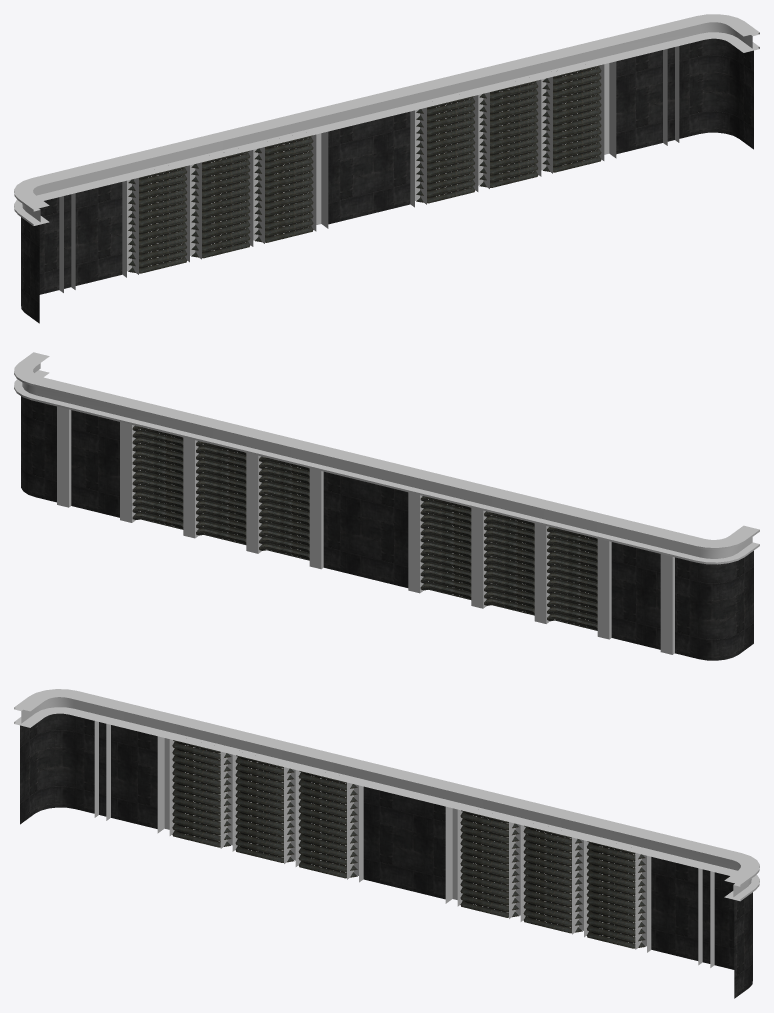
File: tesla_modules_core_wall_outer_closed.dae
3 views of the same model, one above another, from view 1: azimuth 30°, elevation 25°; view 2: azimuth 150°, elevation 25°; view 3: azimuth 330°, elevation 25° (orthographic).
Parts seen in each view (by area): view 1: polySurface134, polySurface124, polySurface135; view 2: polySurface134, polySurface135, polySurface124; view 3: polySurface134, polySurface124, polySurface135.
Boxes of the visible parts, x1,y1,x2,y2 form: polySurface134: (14, 14, 759, 292); polySurface124: (128, 65, 601, 273); polySurface135: (21, 38, 753, 323); polySurface134: (14, 352, 759, 654); polySurface135: (21, 396, 753, 660); polySurface124: (132, 425, 597, 630); polySurface134: (14, 689, 759, 967); polySurface124: (172, 740, 645, 948); polySurface135: (20, 713, 752, 998).
Bounding box in the file's own units: 46.03 × 7 × 3.61.
